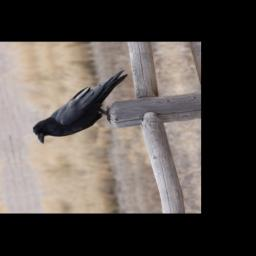Crow: (22, 68, 142, 145)
